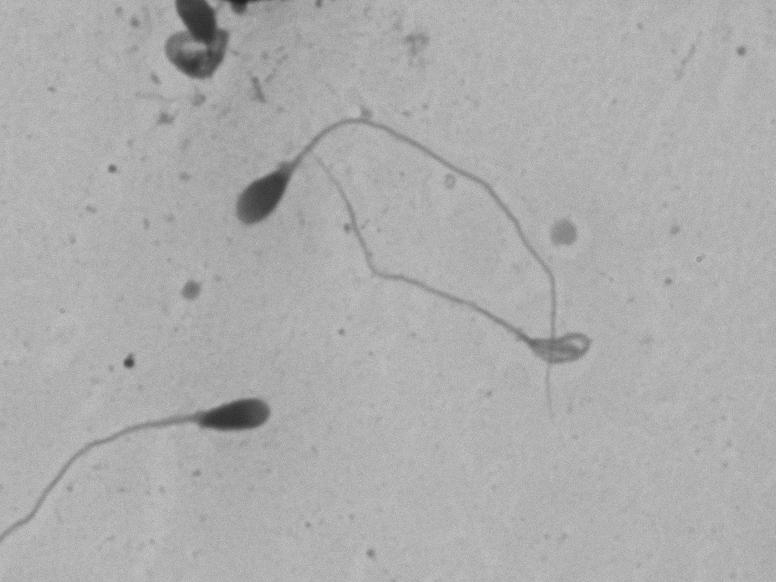Abnormal: (211, 79, 567, 263), (18, 372, 288, 560)
